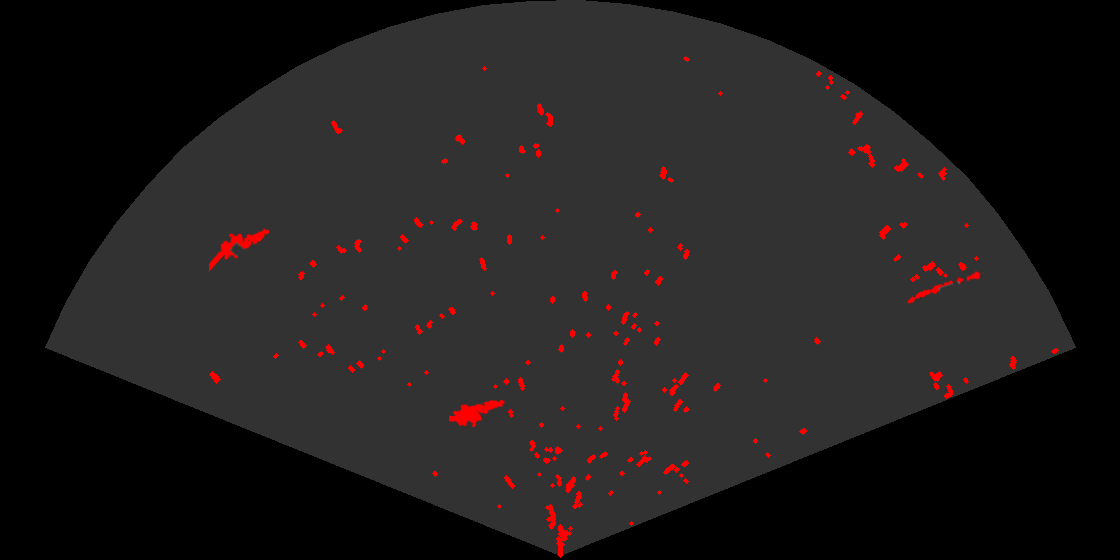chain: (905, 270, 984, 305)
frogman: (209, 227, 271, 272), (449, 398, 505, 430)
